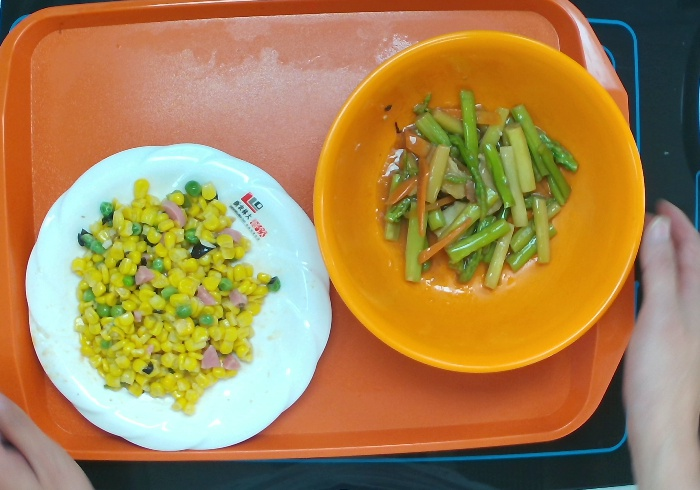ZNLD-Hua_Bian_Wan: (22, 140, 337, 453)
ZNLD-Ju_Se_Tang_Wan: (310, 28, 648, 376)
